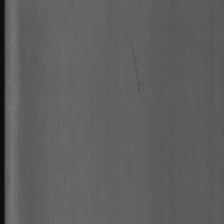water_spot: (127, 42, 144, 97)
